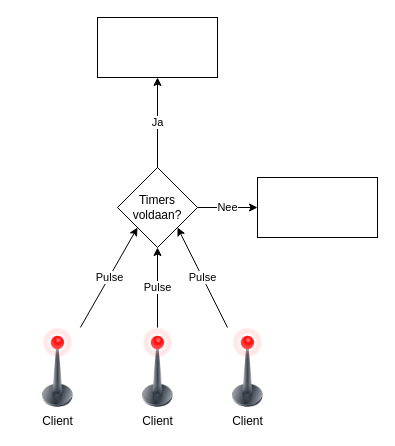
This 395x446 diagram has some shape labels left out. Each missing label, with the centre of its shape:
"Watchdog Timeout" goes at point (317, 207).
"Watchdog wordt gefeed" goes at point (157, 47).
